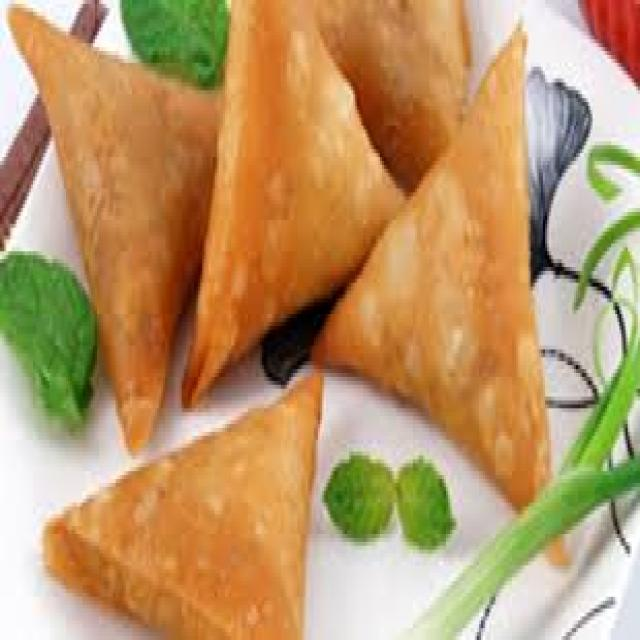SAMOSA: (312, 27, 549, 507), (10, 8, 219, 448), (182, 4, 401, 404), (43, 377, 322, 636), (316, 0, 467, 185)
